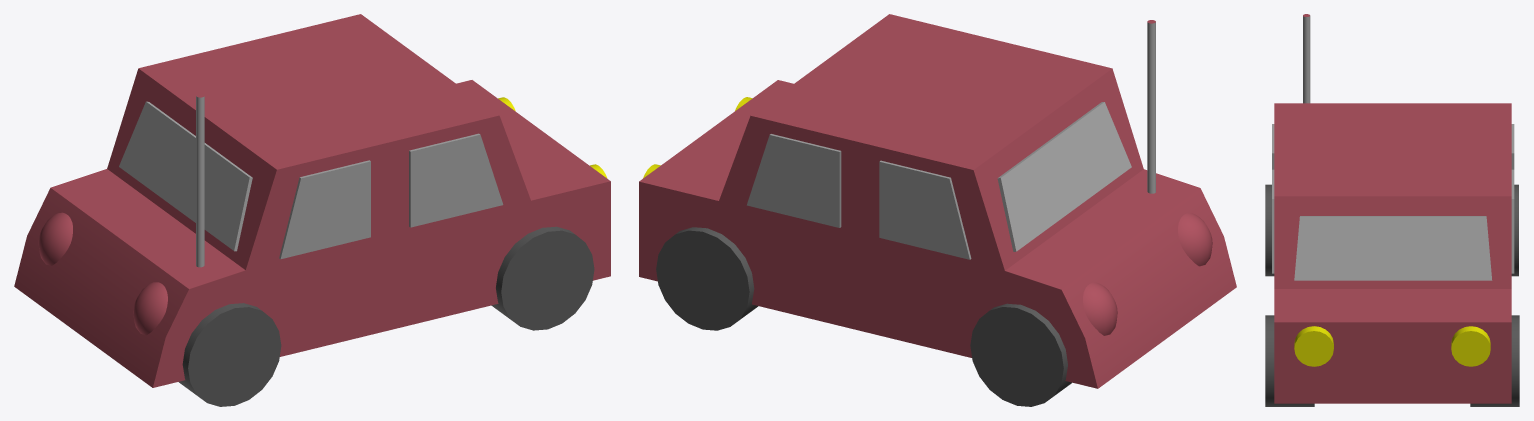
File: ラジコンカー.fbx
3 views of the same model, side by side, from view 1: azimuth 30°, elevation 25°; view 2: azimuth 150°, elevation 25°; view 3: azimuth 270°, elevation 25° (orthographic). The views are drawn at different scales.
Visible parts, largest first — view 1: pSphere3; view 2: pSphere3; view 3: pSphere3.
Boxes of the visible parts, x1,y1,x2,y2 form: pSphere3: (14, 14, 610, 406); pSphere3: (639, 14, 1236, 406); pSphere3: (1265, 14, 1519, 406).
Bounding box in the file's own units: 4.13 × 2.48 × 2.27.
